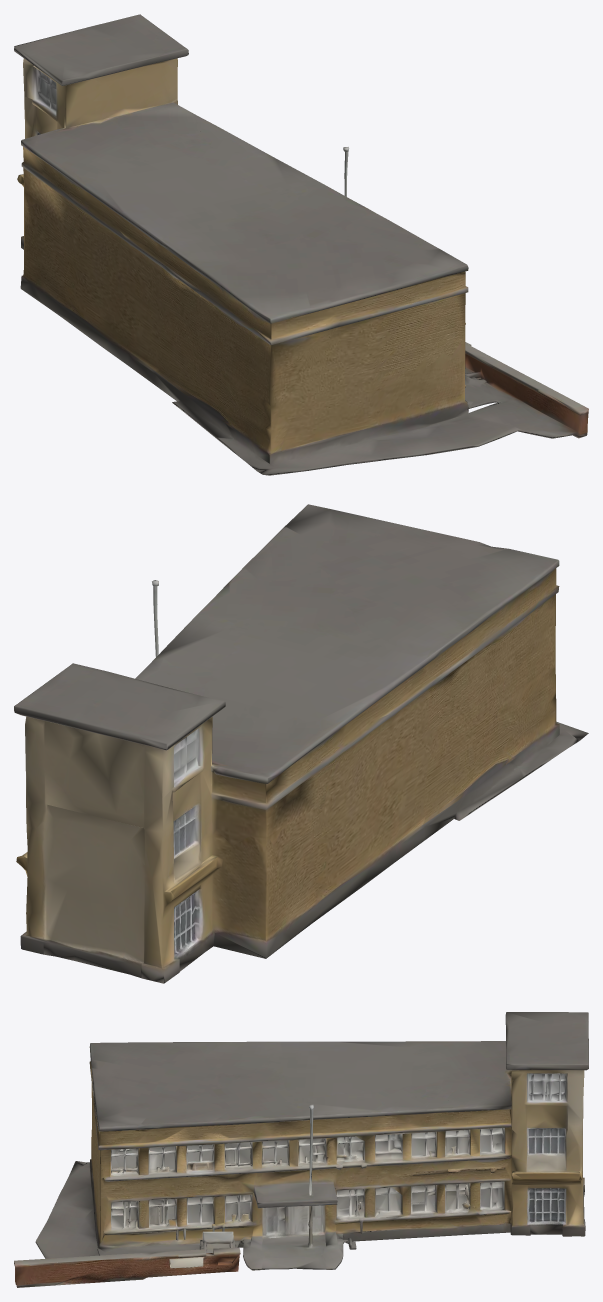
File: school.glb
The picture shows the model from 3 angles, top to bottom: view 1: azimuth 30°, elevation 25°; view 2: azimuth 150°, elevation 25°; view 3: azimuth 270°, elevation 25°; orthographic projection. The views are drawn at different scales.
Visible parts, largest first — view 1: tripo_node_e1d89914-a68f-44f7-b9bb-4e4bd3daf635; view 2: tripo_node_e1d89914-a68f-44f7-b9bb-4e4bd3daf635; view 3: tripo_node_e1d89914-a68f-44f7-b9bb-4e4bd3daf635.
Part boxes in pixels (x1,y1,x2,y2): tripo_node_e1d89914-a68f-44f7-b9bb-4e4bd3daf635: (14,14,588,475); tripo_node_e1d89914-a68f-44f7-b9bb-4e4bd3daf635: (14,504,588,983); tripo_node_e1d89914-a68f-44f7-b9bb-4e4bd3daf635: (14,1012,588,1287).
Size of the model in its own units: 0.5011 by 0.3395 by 0.9999.
Materials: 1 (1 with a texture image).
